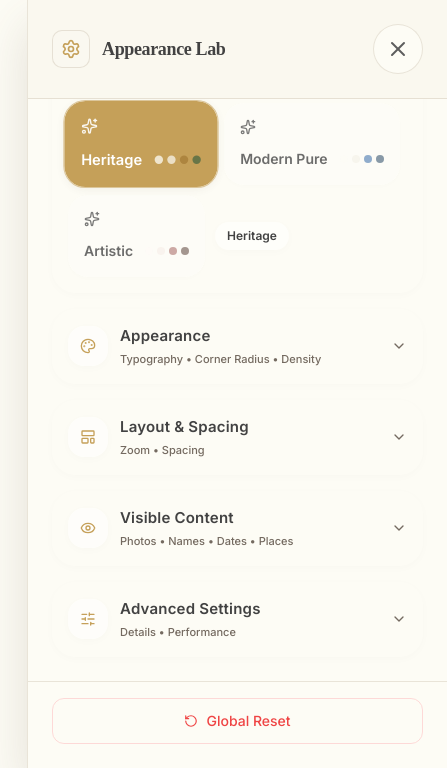
Test: SettingsDrawer › shows visible content controls and removes old time-offset copy
(page scrolled)
Click the button "Visible Content Photos • Names • Dates • Places".
click(88, 528)  # box [52, 491, 423, 566]
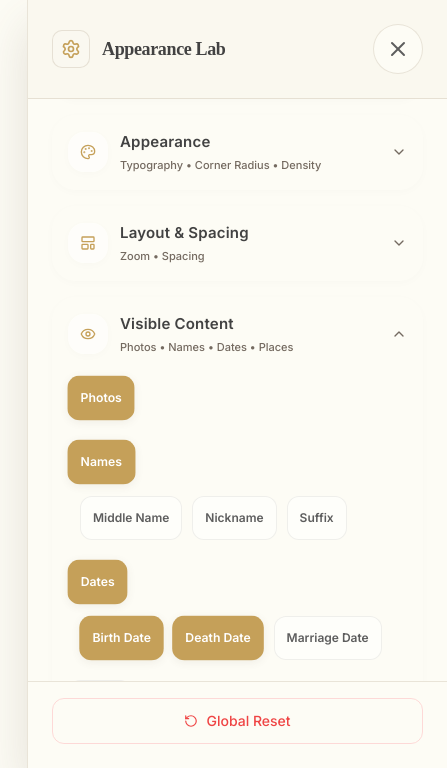
expect the text "Photos" is shown: met, box [81, 392, 122, 404]
expect the text "Names" is shown: met, box [81, 456, 122, 468]
expect the text "Dates" is shown: met, box [81, 576, 115, 588]
